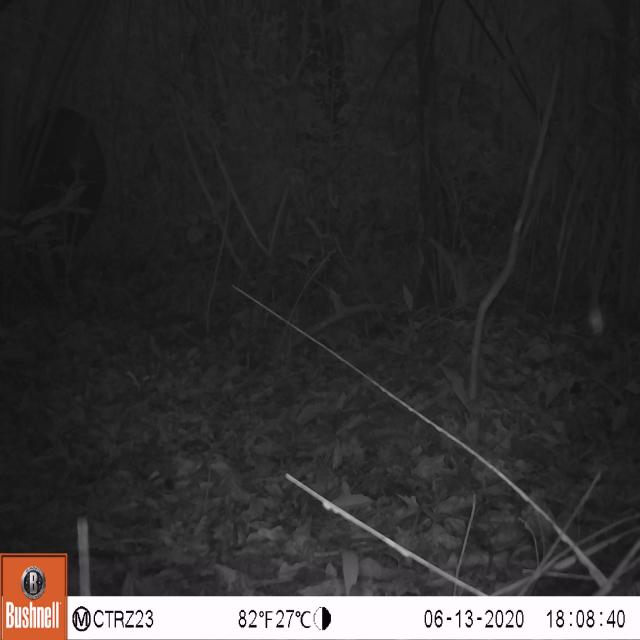Lowland Tapir: (16, 81, 121, 262)
